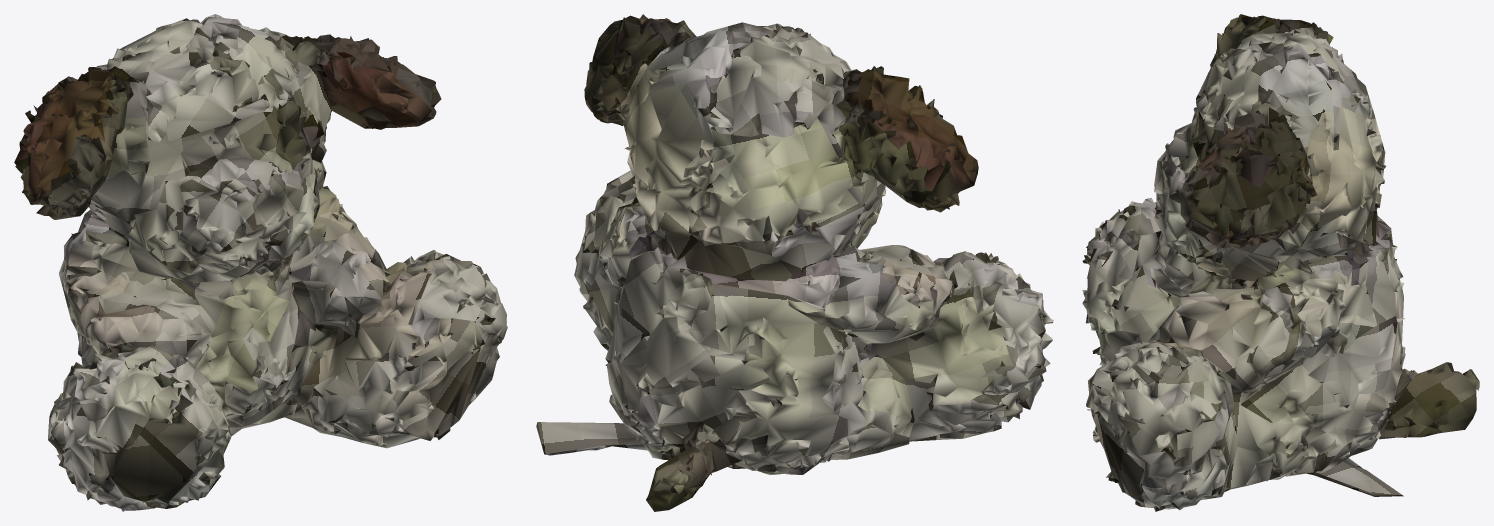
Rendered from Dog-low.glb.
3 views of the same model, side by side, from view 1: azimuth 30°, elevation 25°; view 2: azimuth 150°, elevation 25°; view 3: azimuth 270°, elevation 25° (orthographic). The views are drawn at different scales.
Visible parts, largest first — view 1: Dog; view 2: Dog; view 3: Dog.
Part boxes in pixels (x1,y1,x2,y2): Dog: [14, 14, 507, 511]; Dog: [536, 14, 1053, 511]; Dog: [1082, 14, 1479, 511].
Bounding box in the file's own units: 0.2312 × 0.1978 × 0.1855.
1 material, 1 textured.
